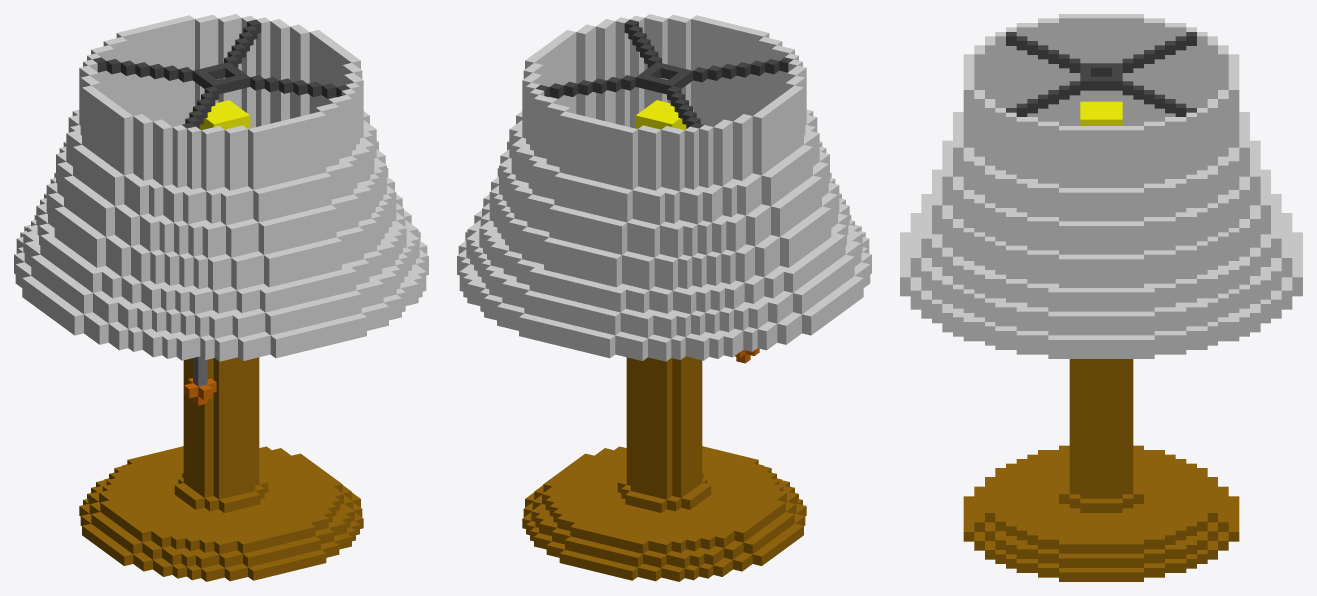
The model's file is Lamp-0.obj.
3 views of the same model, side by side, from view 1: azimuth 30°, elevation 25°; view 2: azimuth 150°, elevation 25°; view 3: azimuth 270°, elevation 25° (orthographic).
Parts seen in each view (by area): view 1: Lamp-0; view 2: Lamp-0; view 3: Lamp-0.
Boxes of the visible parts, x1,y1,x2,y2 form: Lamp-0: [14, 14, 428, 581]; Lamp-0: [457, 14, 871, 581]; Lamp-0: [900, 14, 1302, 581].
Size of the model in its own units: 38 by 47 by 38.
Materials: 1 (1 with a texture image).
